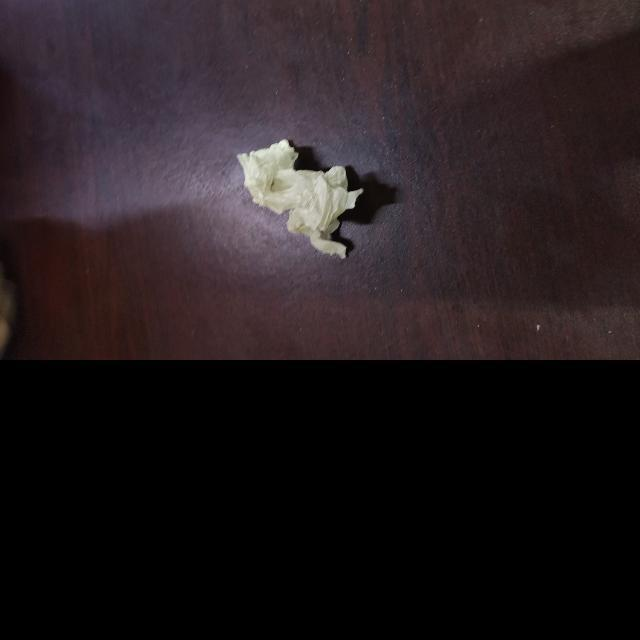kitchen paper: (231, 137, 374, 269)
